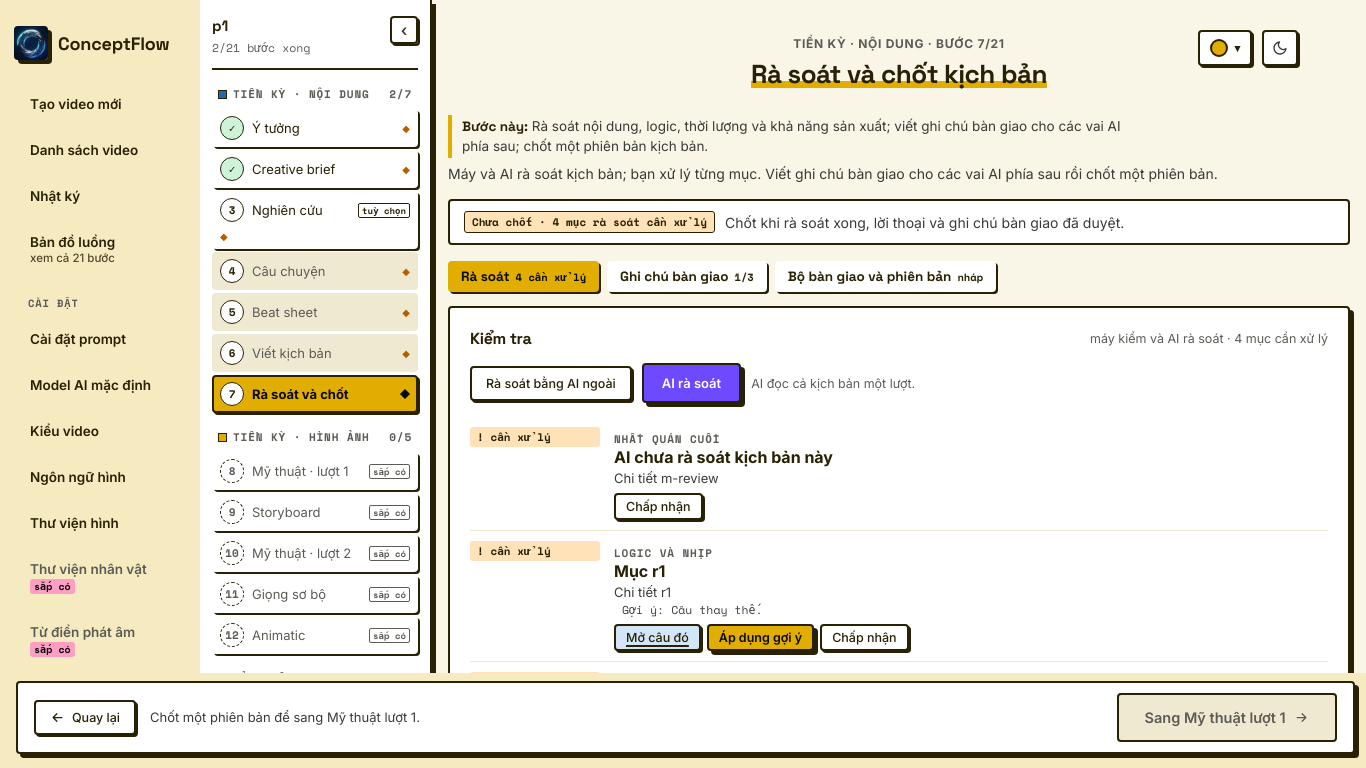
Test: LockStepPage › keeps the lock button off, and says what is missing, until every condition holds
What coordinates should you click on to do the following:
click the tab with test id "lock-tab-package"
I would click on:
 (886, 277)
Its box is top-left (775, 261), bottom-right (996, 292).
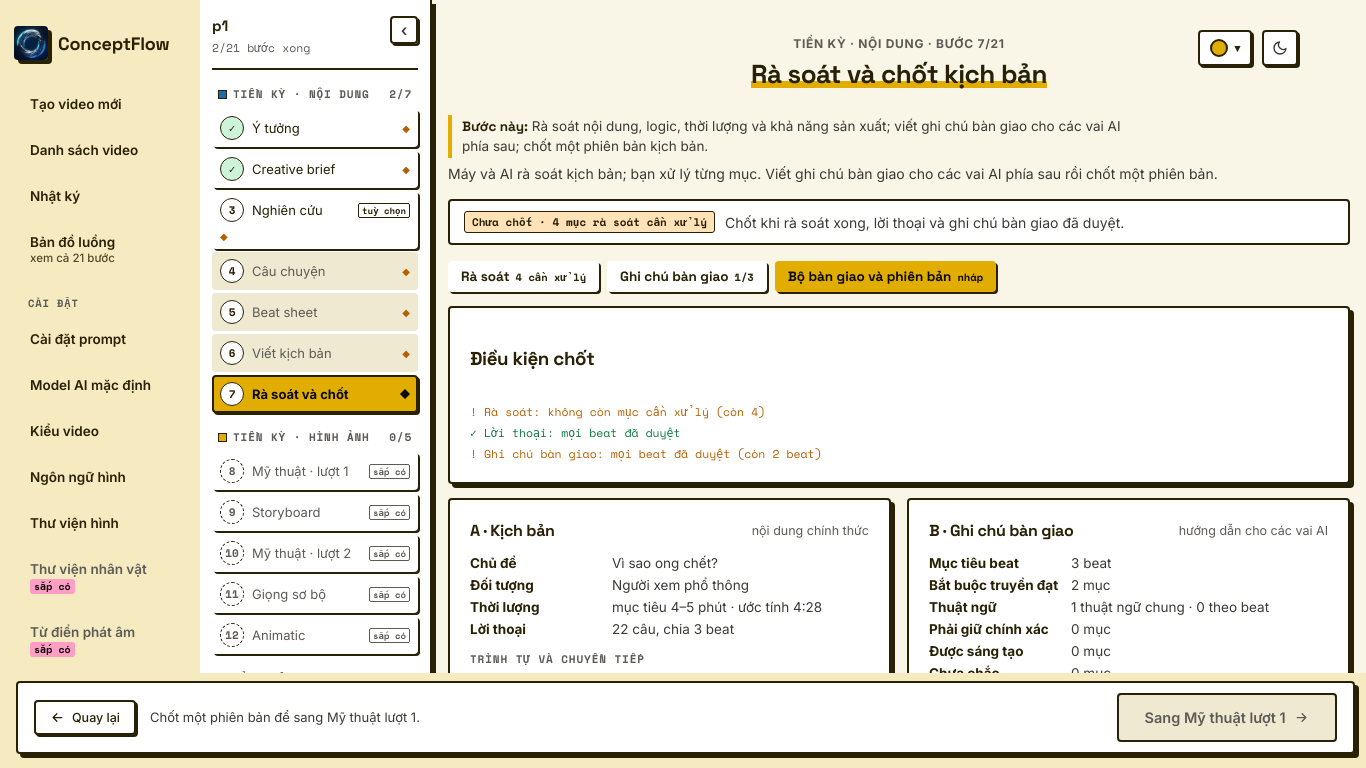
Expected: the button with test id "lock-next" is disabled, top-left (1117, 693), bottom-right (1337, 742)
Now the element with test id "lock-conditions-card" shows "còn 4", box top-left (484, 403), bottom-right (765, 420)
Now the element with test id "lock-conditions-card" shows "còn 2 beat", box top-left (484, 445), bottom-right (822, 462)
